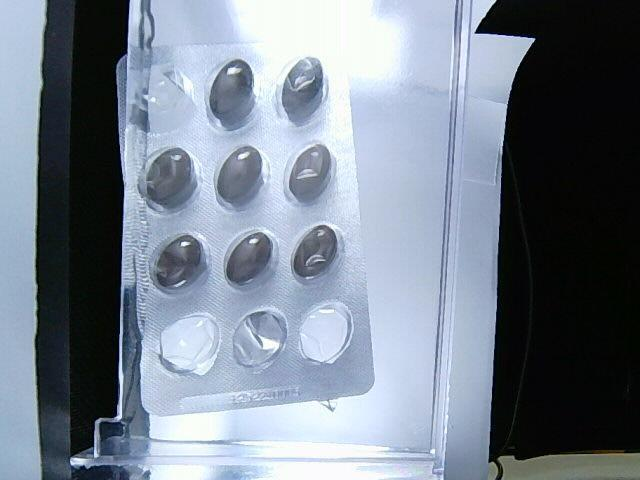Light Front: (116, 39, 376, 418)
No Pill Front: (160, 314, 220, 374), (145, 64, 193, 133), (233, 309, 288, 369), (299, 301, 352, 363)
Pill Front: (138, 148, 203, 214), (206, 59, 262, 130), (215, 145, 270, 210), (276, 56, 326, 126), (150, 234, 208, 294), (291, 225, 343, 285), (286, 144, 332, 203), (225, 231, 273, 285)
